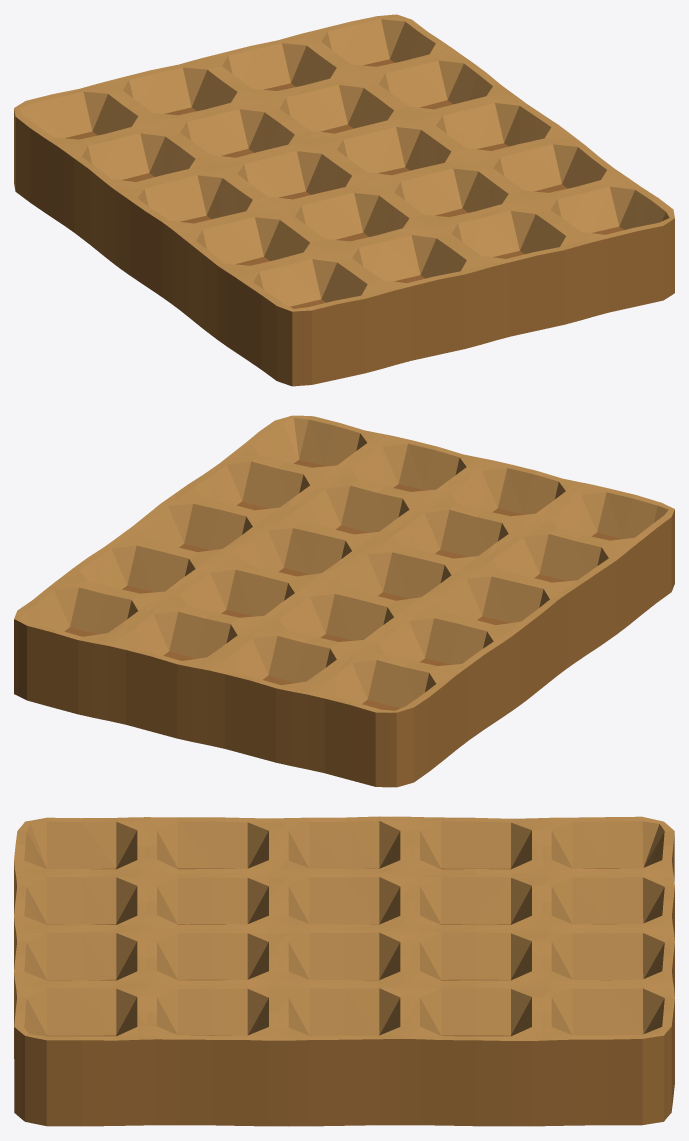
3 renders of one model, top to bottom at view 1: azimuth 30°, elevation 25°; view 2: azimuth 150°, elevation 25°; view 3: azimuth 270°, elevation 25°, orthographic. The views are drawn at different scales.
Visible parts, largest first — view 1: NEW335_Waffle_LOD2; view 2: NEW335_Waffle_LOD2; view 3: NEW335_Waffle_LOD2.
Boxes of the visible parts, x1=… form: NEW335_Waffle_LOD2: x1=14, y1=14, x2=674, y2=386; NEW335_Waffle_LOD2: x1=14, y1=415, x2=674, y2=787; NEW335_Waffle_LOD2: x1=14, y1=816, x2=674, y2=1126.
Bounding box in the file's own units: 0.1006 × 0.0181 × 0.1256.
